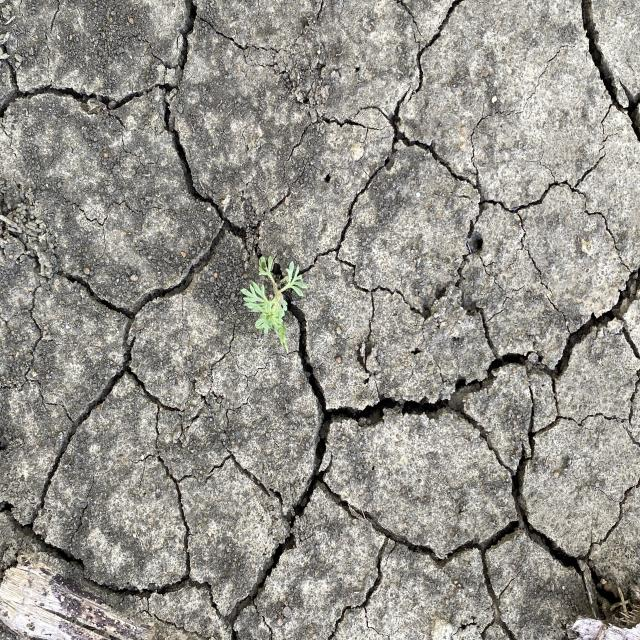Ragweed: (239, 252, 309, 356)
